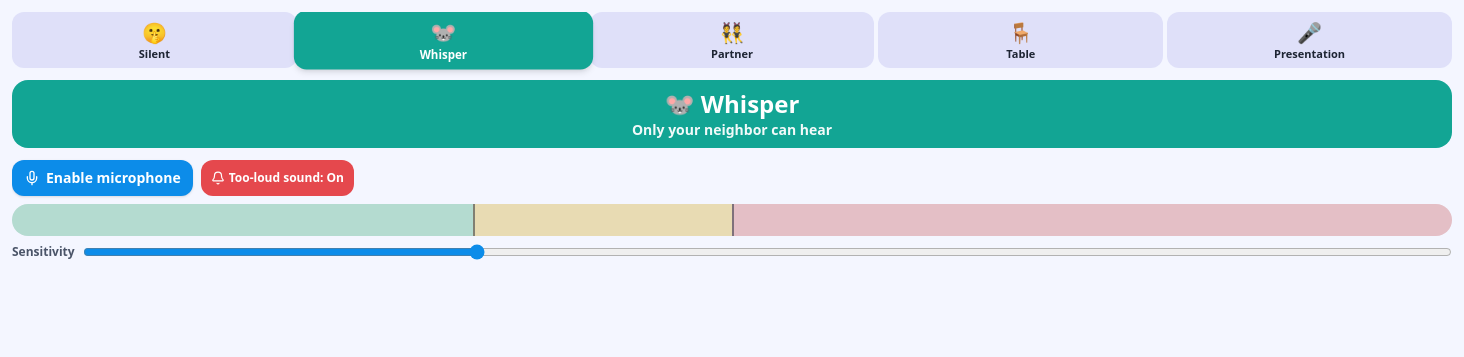
Test case: too-loud sound alert › plays the chosen sound only after the room stays too loud, then waits between alerts
Click the button "Enable microphone" at [102, 178], box [12, 160, 193, 196]
Wait 28500 ms
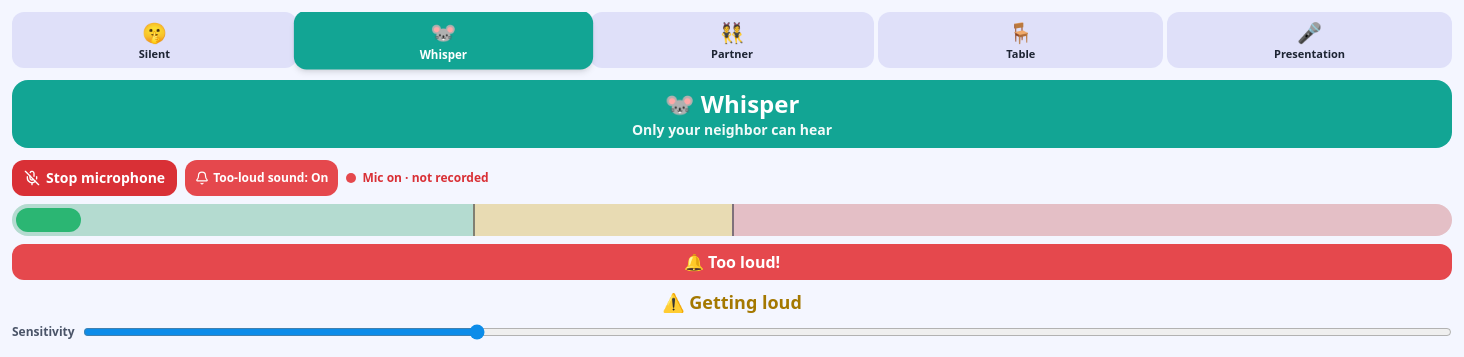
Check: the message "🔔 Too loud!" is shown, box [12, 244, 1452, 280]
